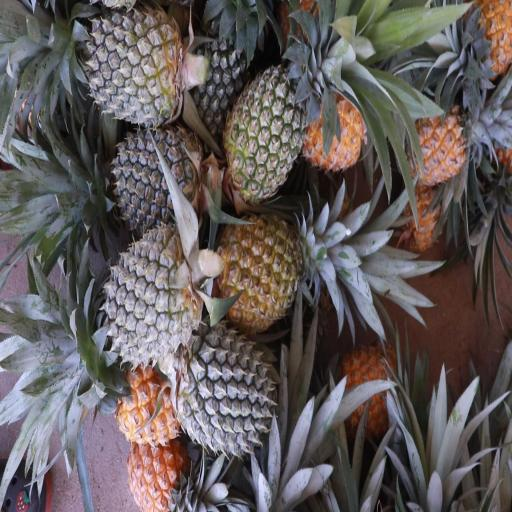------------------------------: (222, 67, 320, 191), (218, 209, 310, 322)
Pineapple - v8 v1: (109, 348, 183, 440), (301, 84, 366, 168), (340, 354, 395, 452), (410, 100, 470, 186), (124, 433, 187, 508), (465, 0, 512, 81)
